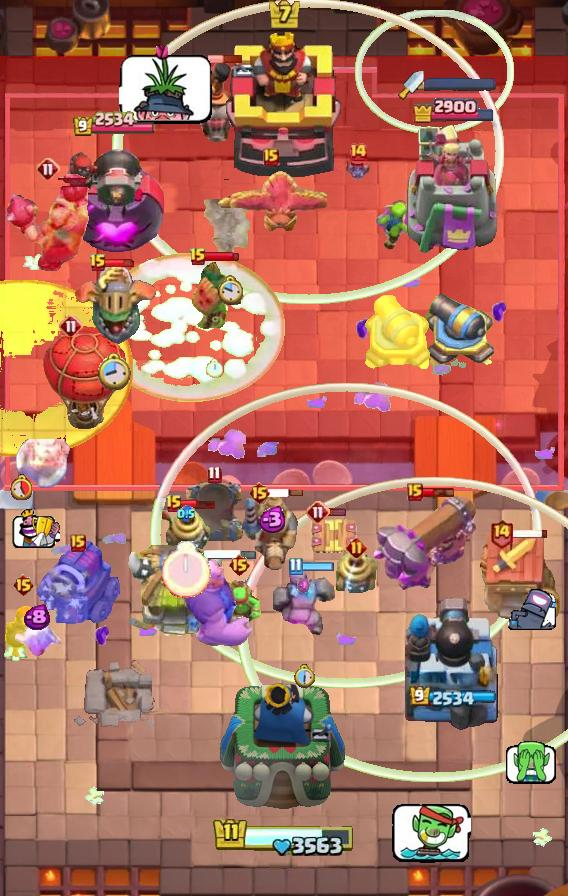balloon: (161, 557, 255, 649)
bar: (406, 122, 500, 256)
barbarian-barrel: (343, 156, 373, 182)
cannon-cart: (41, 324, 127, 432)
clock: (212, 817, 356, 859)
electro-spirit: (255, 506, 287, 533), (22, 604, 49, 631), (177, 505, 195, 523), (297, 578, 311, 595)
elite-barbarian: (180, 58, 242, 152)
elixir: (162, 542, 211, 599), (97, 353, 131, 392), (217, 275, 243, 306), (10, 474, 32, 500), (293, 664, 315, 688), (206, 358, 223, 377)
emote: (204, 548, 258, 561), (204, 251, 240, 263), (420, 486, 456, 498), (181, 498, 217, 510), (512, 528, 549, 539), (300, 560, 335, 571), (268, 488, 304, 498), (208, 54, 243, 64), (105, 258, 137, 268), (328, 507, 347, 517)
fisherman: (204, 199, 257, 265)
furnace: (370, 491, 480, 593)
giant-snowball: (216, 580, 262, 628)
goblin-barrel: (185, 261, 243, 331)
goblin-brawler: (310, 516, 360, 556)
goblin-drill: (162, 506, 210, 554), (333, 550, 379, 598)
golem: (35, 540, 121, 624)
ice-golem: (4, 602, 42, 658)
king-tower: (219, 678, 349, 826), (224, 29, 344, 181)
king-tower-bar: (424, 77, 496, 91)
mirror: (11, 620, 61, 658)
mother-witch: (215, 170, 327, 238)
musketeer: (182, 479, 246, 545)
night-witch: (71, 262, 157, 346)
phoenix-big: (96, 253, 286, 402)
phoenix-egg: (0, 279, 132, 457)
prince: (123, 545, 225, 641)
ram-rider: (242, 492, 300, 574)
royal-giant: (14, 439, 70, 489)
royal-guardian: (4, 170, 92, 274)
royal-recruit: (425, 288, 497, 372), (361, 292, 433, 374)
selected: (412, 97, 497, 124), (72, 111, 156, 138), (409, 686, 497, 710)
skeleton: (119, 40, 215, 126), (391, 800, 471, 864), (505, 741, 560, 785), (506, 589, 556, 632), (12, 509, 60, 548)
sparky: (474, 531, 560, 629)
text: (490, 518, 515, 549), (36, 157, 60, 181), (59, 314, 83, 338), (306, 500, 330, 524), (248, 481, 271, 505), (228, 553, 251, 577), (13, 573, 36, 597), (346, 537, 367, 559), (348, 142, 368, 162), (189, 247, 207, 267), (89, 253, 107, 273), (165, 494, 183, 514), (263, 148, 279, 166), (407, 483, 423, 501), (70, 534, 86, 552), (289, 556, 304, 575), (207, 465, 222, 483)
tower-bar: (405, 595, 501, 731), (62, 138, 166, 256)
valkyrie-evolution: (273, 563, 335, 639)
zap: (374, 200, 426, 250)
